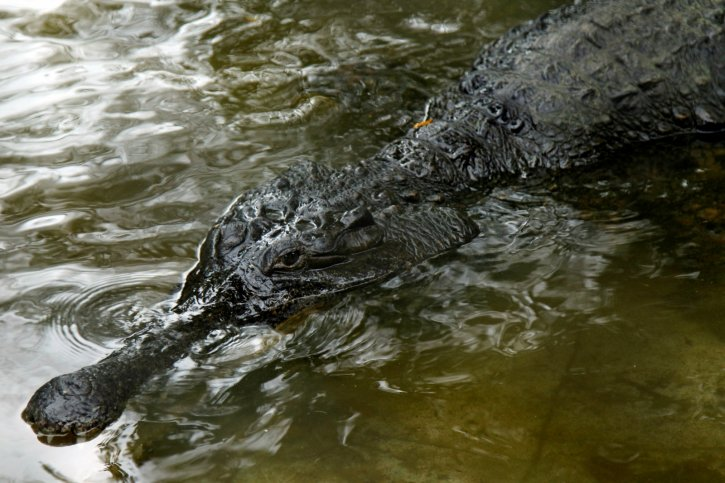Crocodile: (24, 7, 725, 455)
